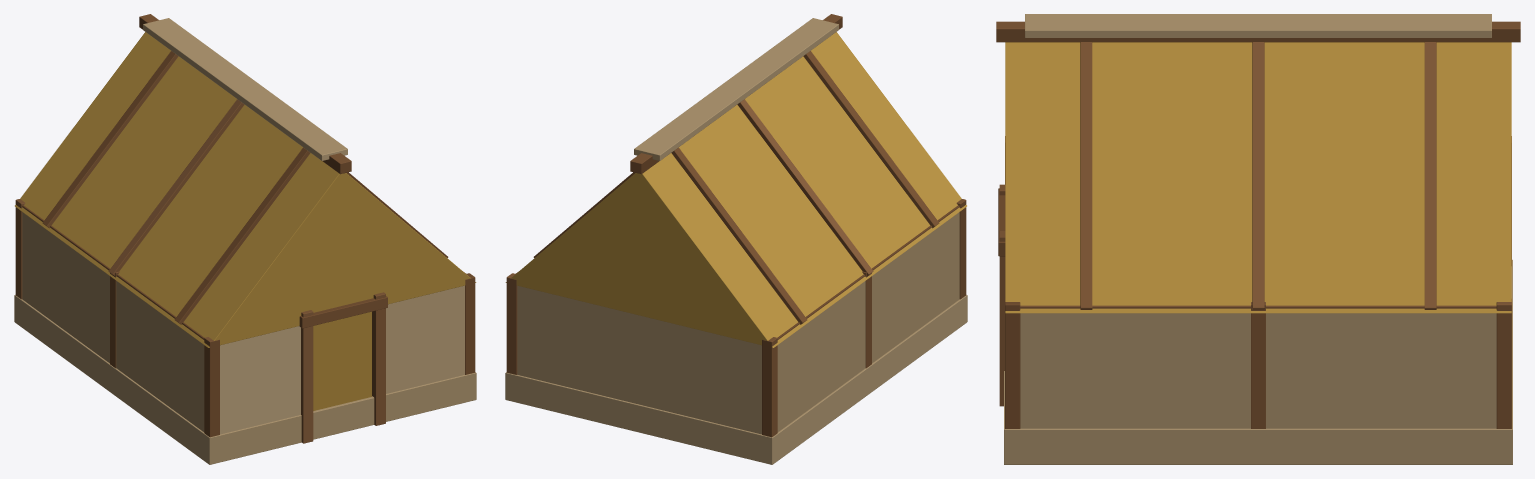
Rendered from House_Paleo_b.glb.
3 renders of one model, left to right at view 1: azimuth 30°, elevation 25°; view 2: azimuth 150°, elevation 25°; view 3: azimuth 270°, elevation 25°, orthographic. The views are drawn at different scales.
Visible parts, largest first — view 1: House_Paleo_b; view 2: House_Paleo_b; view 3: House_Paleo_b.
Part boxes in pixels (box(x1,y1,x2,y2)): House_Paleo_b: box(14, 14, 476, 464); House_Paleo_b: box(505, 14, 967, 464); House_Paleo_b: box(996, 14, 1520, 464).
Size of what is drawn, in the model's own units: 3.72 by 3.62 by 4.8.
Materials: 1 (1 with a texture image).
